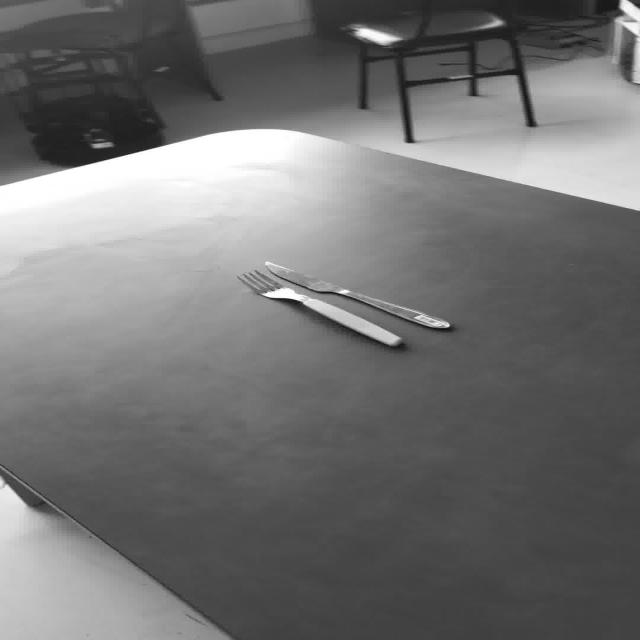fork: (235, 268, 403, 348)
knife fork: (262, 260, 450, 329)
